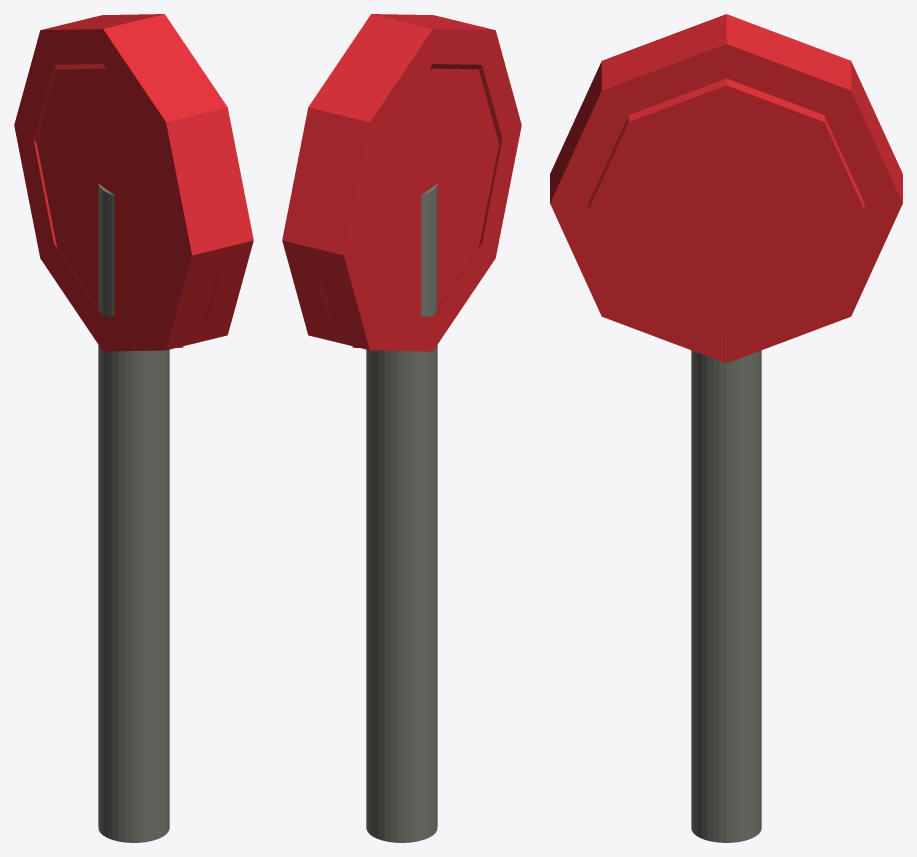
Rendered from stopSign.fbx.
3 renders of one model, left to right at view 1: azimuth 30°, elevation 25°; view 2: azimuth 150°, elevation 25°; view 3: azimuth 270°, elevation 25°, orthographic.
Parts seen in each view (by area): view 1: Cylinder.001, Cylinder; view 2: Cylinder.001, Cylinder; view 3: Cylinder.001, Cylinder.
Boxes of the visible parts, x1,y1,x2,y2 form: Cylinder.001: [14, 14, 253, 351]; Cylinder: [98, 184, 169, 842]; Cylinder.001: [282, 14, 521, 351]; Cylinder: [366, 184, 437, 842]; Cylinder.001: [550, 14, 902, 363]; Cylinder: [691, 336, 761, 842].
Size of the model in its own units: 10.55 by 125 by 50.
